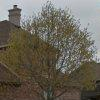Chimney: (6, 5, 21, 26)
